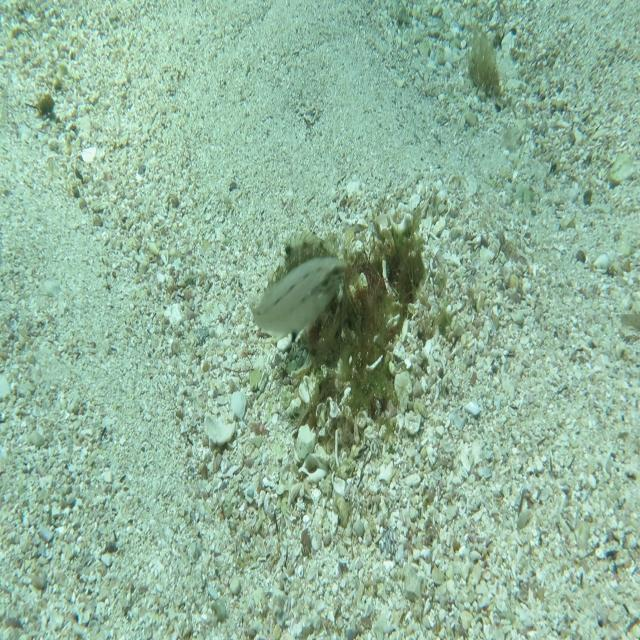DAN_CIRC: (263, 227, 341, 291)
core_nest: (369, 250, 413, 290)
female: (248, 255, 348, 345)
nest: (283, 181, 433, 454)
